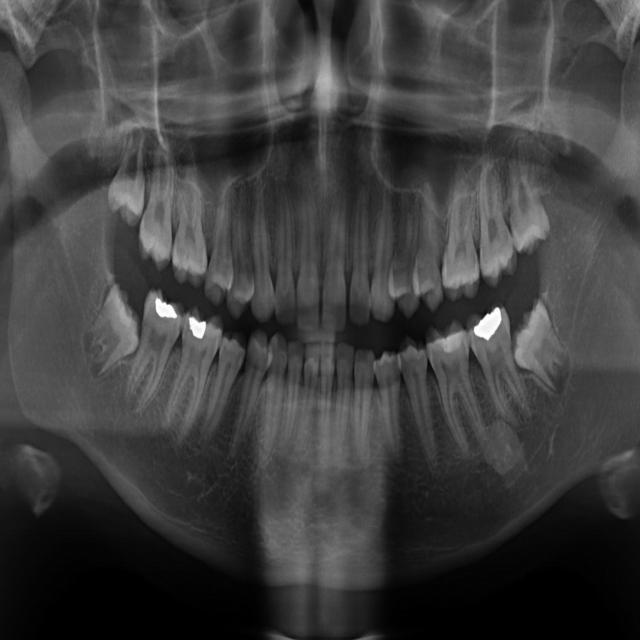3M ESPE Implant: (107, 119, 145, 227)
AGS Medikal Implant: (461, 298, 538, 434)
AMerOss Implant: (422, 317, 496, 462)
Amalgam filling: (137, 141, 177, 273)
Anthogyr Implant: (395, 331, 449, 470)
Bicon Implant: (374, 351, 403, 459)
BioHorizons Implant: (349, 348, 375, 468)
BioLife Implant: (334, 342, 354, 460)
Biomet 3i Implant: (319, 342, 335, 436)
Blue Sky Bio Implant: (295, 341, 321, 441)
Camlog Implant: (282, 340, 304, 447)
Caries: (347, 182, 370, 328)
Composite filling: (260, 330, 289, 465)
Cowellmedi Implant: (229, 327, 272, 461)
Crown: (195, 328, 249, 455)
DENTSPLY Implant: (170, 176, 212, 289)
Dentatus Implant: (156, 301, 227, 448)
Dentis Implant: (120, 285, 188, 418)
Dentium Implant: (66, 281, 159, 389)
Euroteknika Implant: (203, 184, 240, 307)
Filling: (225, 178, 264, 321)
Frontier Implant: (250, 162, 280, 324)
Hiossen Implant: (370, 163, 395, 323)
Implant: (296, 171, 321, 333)
Implant Direct: (275, 181, 296, 327)
Keystone Dental Implant: (321, 178, 353, 333)
MIS Implant: (395, 172, 421, 320)
Mandible: (411, 180, 445, 312)
Maxilla: (438, 189, 481, 300)
Megagen Implant: (469, 160, 521, 290)
Neodent Implant: (489, 133, 556, 257)
Neoss Implant: (495, 296, 583, 407)
